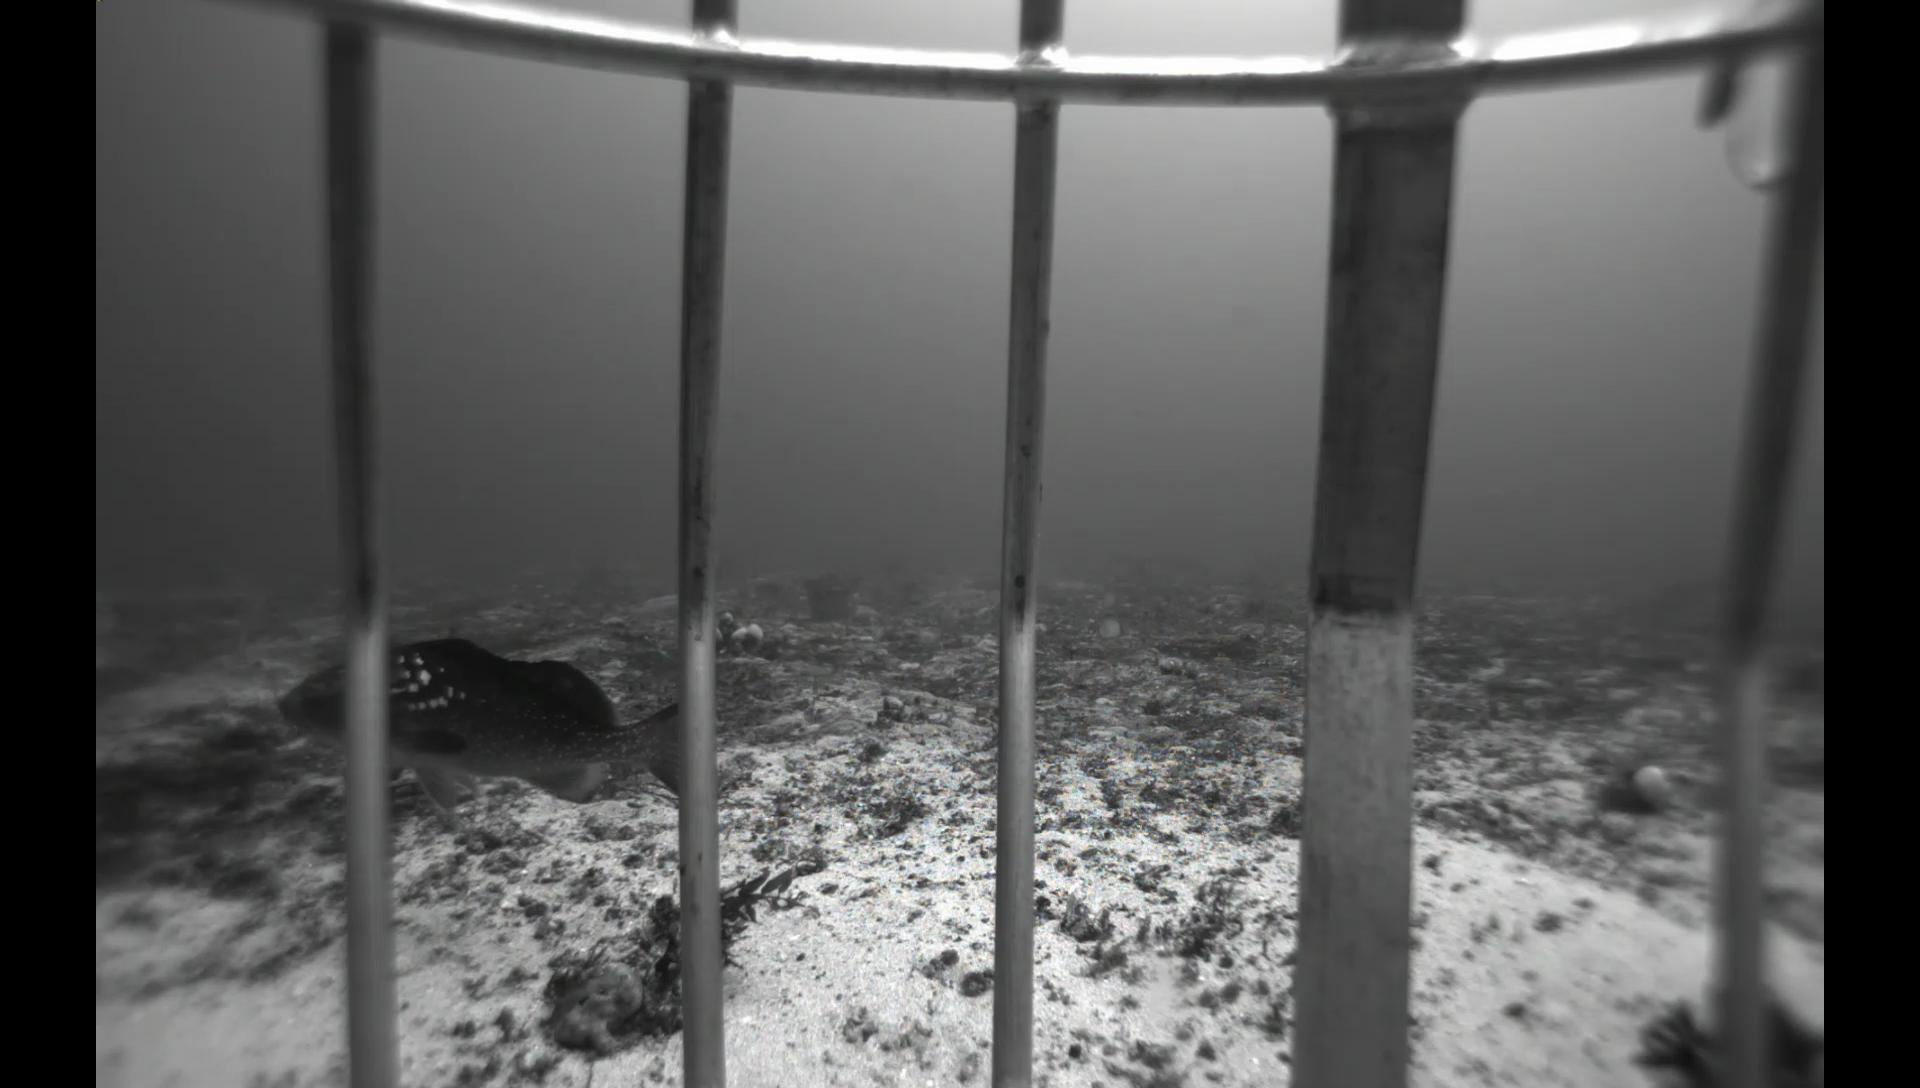CHAETODONOCELLATUS-170260307: (1089, 616, 1129, 644), (1091, 587, 1116, 613)
EPINEPHELUSMORIO-170021211: (264, 628, 679, 826)
HALICHOERESBIVITTATUS-170281202: (261, 677, 286, 702)
PAGRUSPAGRUS-170212302: (95, 584, 125, 640)
